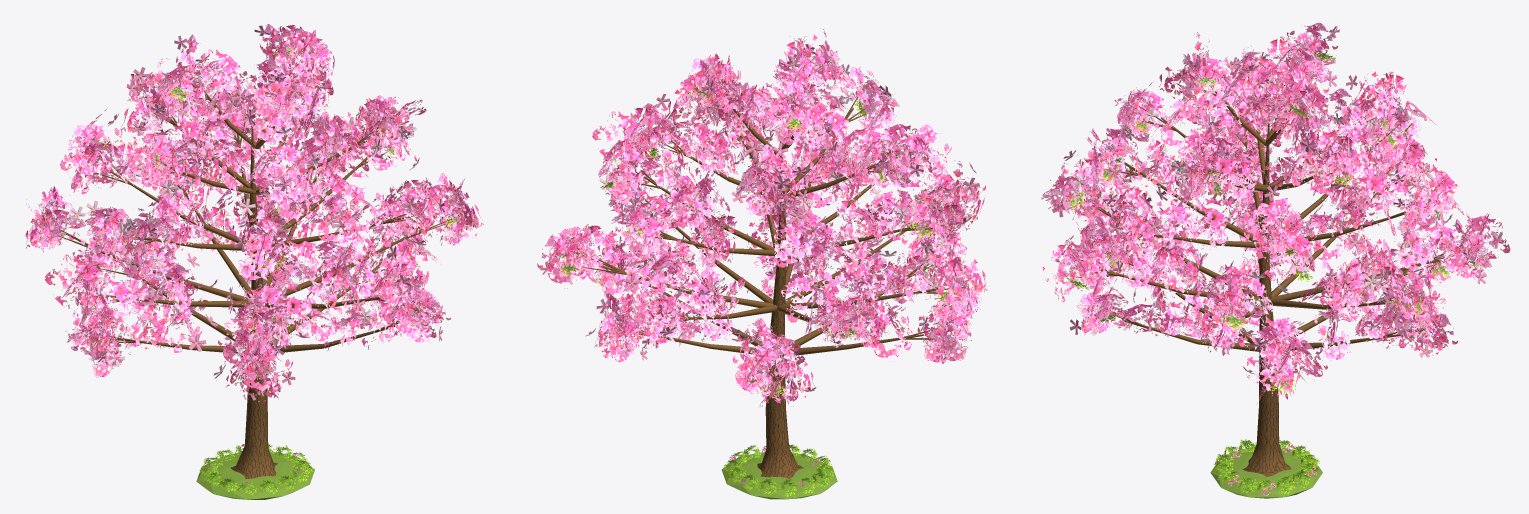
Rendered from V02_tree_blossom_v2.glb.
The picture shows the model from 3 angles, left to right: view 1: azimuth 30°, elevation 25°; view 2: azimuth 150°, elevation 25°; view 3: azimuth 270°, elevation 25°; orthographic projection. The views are drawn at different scales.
Parts seen in each view (by area): view 1: GAME_V2_Sakura_close_sprays, GAME_V2_Bark, GAME_V2_Petal_pink, GAME_V2_Grass, GAME_V2_Leaf_cutout, GAME_V2_Petal_light; view 2: GAME_V2_Sakura_close_sprays, GAME_V2_Bark, GAME_V2_Petal_pink, GAME_V2_Leaf_cutout, GAME_V2_Grass, GAME_V2_Petal_light; view 3: GAME_V2_Sakura_close_sprays, GAME_V2_Bark, GAME_V2_Petal_pink, GAME_V2_Leaf_cutout, GAME_V2_Grass, GAME_V2_Petal_light.
Part boxes in pixels (x1=…): GAME_V2_Sakura_close_sprays: x1=25, y1=24, x2=484, y2=485; GAME_V2_Bark: x1=58, y1=60, x2=452, y2=478; GAME_V2_Petal_pink: x1=42, y1=25, x2=444, y2=385; GAME_V2_Grass: x1=196, y1=452, x2=314, y2=499; GAME_V2_Leaf_cutout: x1=55, y1=42, x2=463, y2=495; GAME_V2_Petal_light: x1=69, y1=65, x2=419, y2=382; GAME_V2_Sakura_close_sprays: x1=537, y1=29, x2=987, y2=487; GAME_V2_Bark: x1=579, y1=74, x2=965, y2=478; GAME_V2_Petal_pink: x1=540, y1=44, x2=979, y2=392; GAME_V2_Leaf_cutout: x1=561, y1=64, x2=954, y2=496; GAME_V2_Grass: x1=721, y1=452, x2=837, y2=499; GAME_V2_Petal_light: x1=599, y1=64, x2=951, y2=374; GAME_V2_Sakura_close_sprays: x1=1041, y1=22, x2=1510, y2=495; GAME_V2_Bark: x1=1072, y1=51, x2=1465, y2=476; GAME_V2_Petal_pink: x1=1051, y1=26, x2=1503, y2=357; GAME_V2_Leaf_cutout: x1=1066, y1=52, x2=1480, y2=494; GAME_V2_Grass: x1=1210, y1=447, x2=1322, y2=498; GAME_V2_Petal_light: x1=1071, y1=54, x2=1452, y2=374.
Size of the model in its own units: 5.44 by 5.51 by 5.37.
7 materials, 3 textured.
